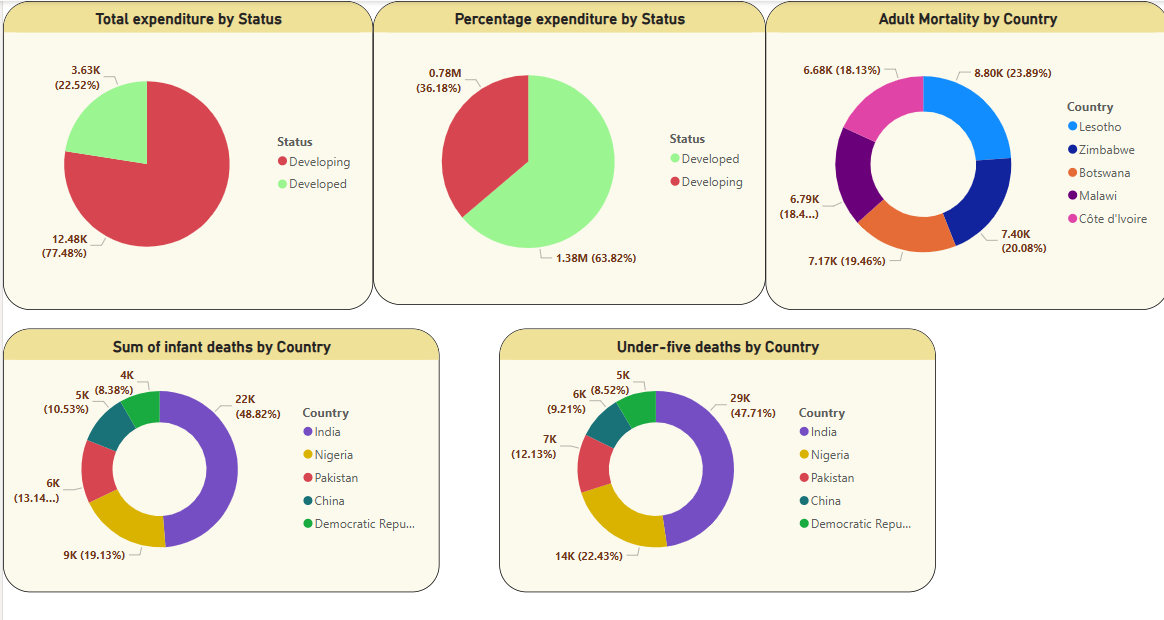

Layout of this report page (visuals, bound fields, positions):
{"tool":"powerbi","page":{"name":"Page 5","canvas":[1280,720],"ordinal":4},"visuals":[{"type":"pieChart","fields":{"Y":["Sum(Life Expectancy Data.Total expenditure)"],"Category":["Life Expectancy Data.Status"]},"box":[0,0,406.2,338.9],"z":1},{"type":"donutChart","fields":{"Y":["Sum(Life Expectancy Data.under-five deaths )"],"Category":["Life Expectancy Data.Country"]},"box":[544.8,359.5,478.9,289.5],"z":2},{"type":"pieChart","fields":{"Category":["Life Expectancy Data.Status"],"Y":["Sum(Life Expectancy Data.percentage expenditure)"]},"box":[406.2,0,430.9,333.4],"z":3},{"type":"donutChart","fields":{"Y":["Sum(Life Expectancy Data.Adult Mortality)"],"Category":["Life Expectancy Data.Country"]},"box":[837.1,0,443.2,338.9],"z":4},{"type":"donutChart","fields":{"Category":["Life Expectancy Data.Country"],"Y":["Sum(Life Expectancy Data.infant deaths)"]},"box":[0,359.5,478.9,289.5],"z":5}]}

Visuals, with their boxes on the page's 1280x720 design canvas (x1, y1, x2, y2). These are canvas units, not pixel positions in the 1164x620 screenshot, which may show the page scaled, cropped or inside an application window:
pieChart - Sum(Life Expectancy Data.Total expenditure) x Life Expectancy Data.Status: (left=0, top=0, right=406, bottom=339)
donutChart - Sum(Life Expectancy Data.under-five deaths ) x Life Expectancy Data.Country: (left=545, top=360, right=1024, bottom=649)
pieChart - Life Expectancy Data.Status x Sum(Life Expectancy Data.percentage expenditure): (left=406, top=0, right=837, bottom=333)
donutChart - Sum(Life Expectancy Data.Adult Mortality) x Life Expectancy Data.Country: (left=837, top=0, right=1280, bottom=339)
donutChart - Life Expectancy Data.Country x Sum(Life Expectancy Data.infant deaths): (left=0, top=360, right=479, bottom=649)
